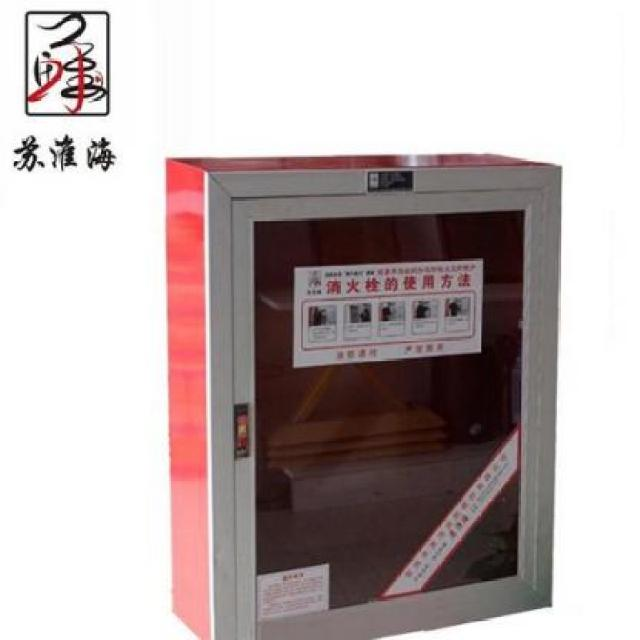firehydrant: (160, 144, 566, 640)
